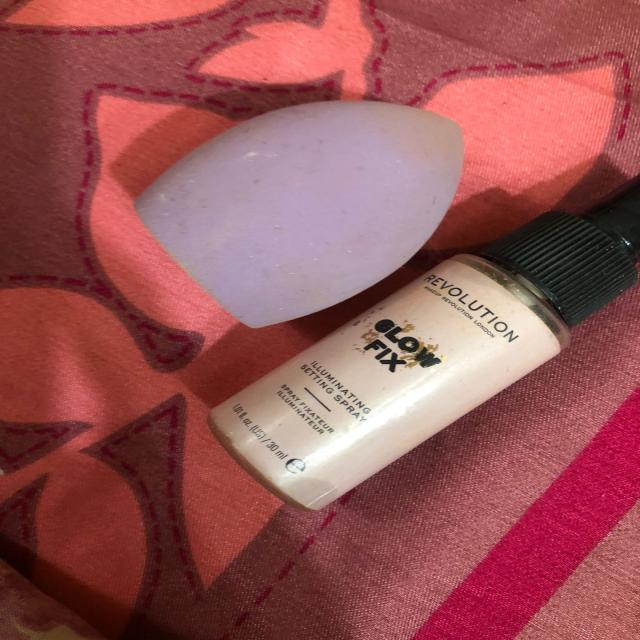beauty blender: (145, 95, 468, 324)
setting spray: (196, 184, 640, 519)
